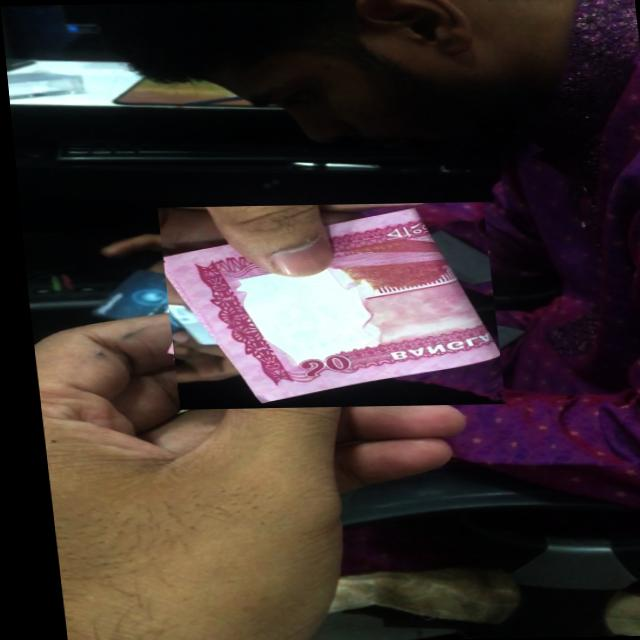Taka: (152, 202, 497, 409)
